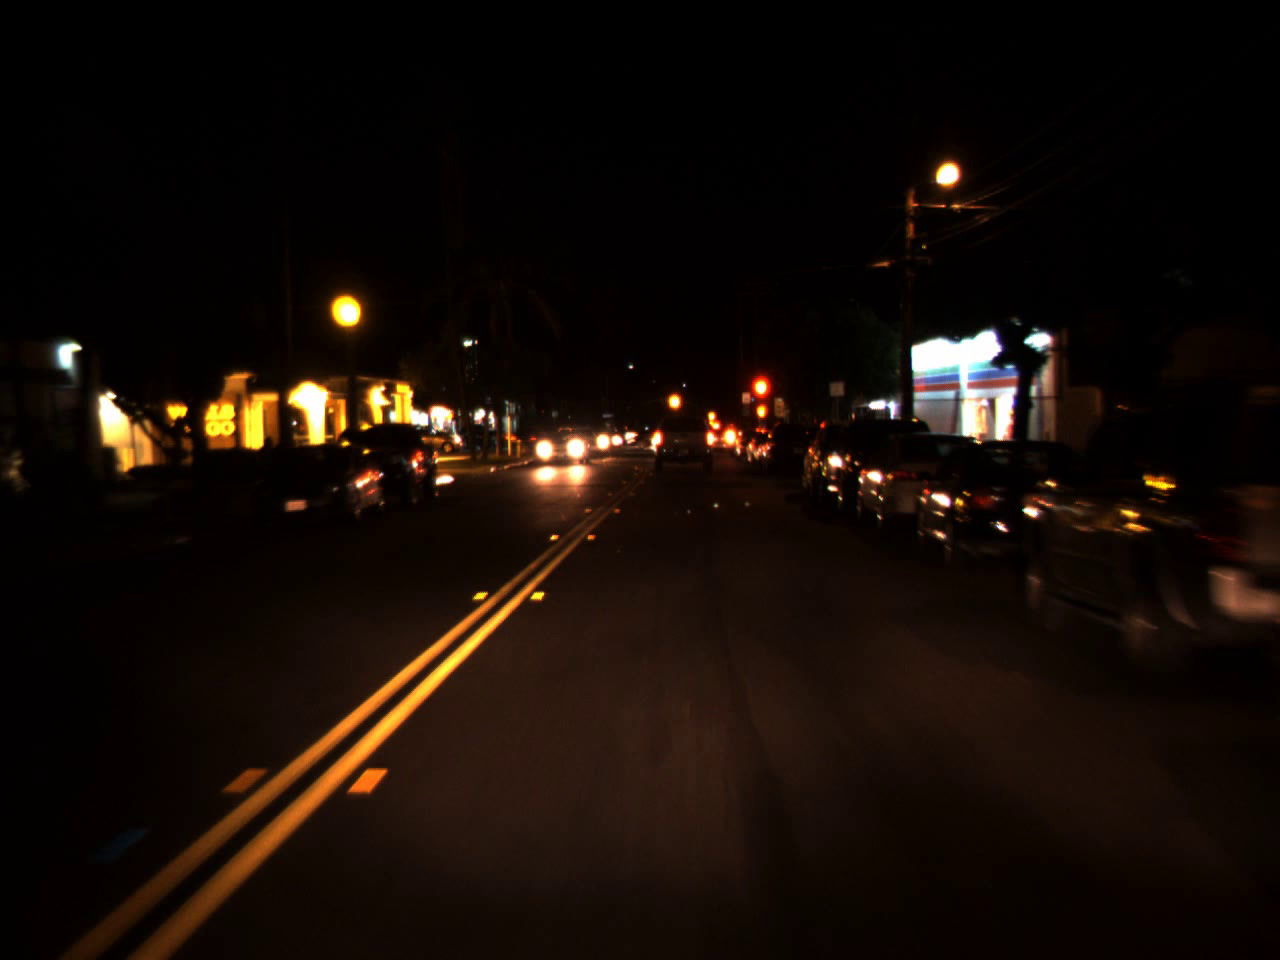stop: (747, 370, 774, 429)
warning: (666, 382, 684, 419), (706, 406, 718, 421)
